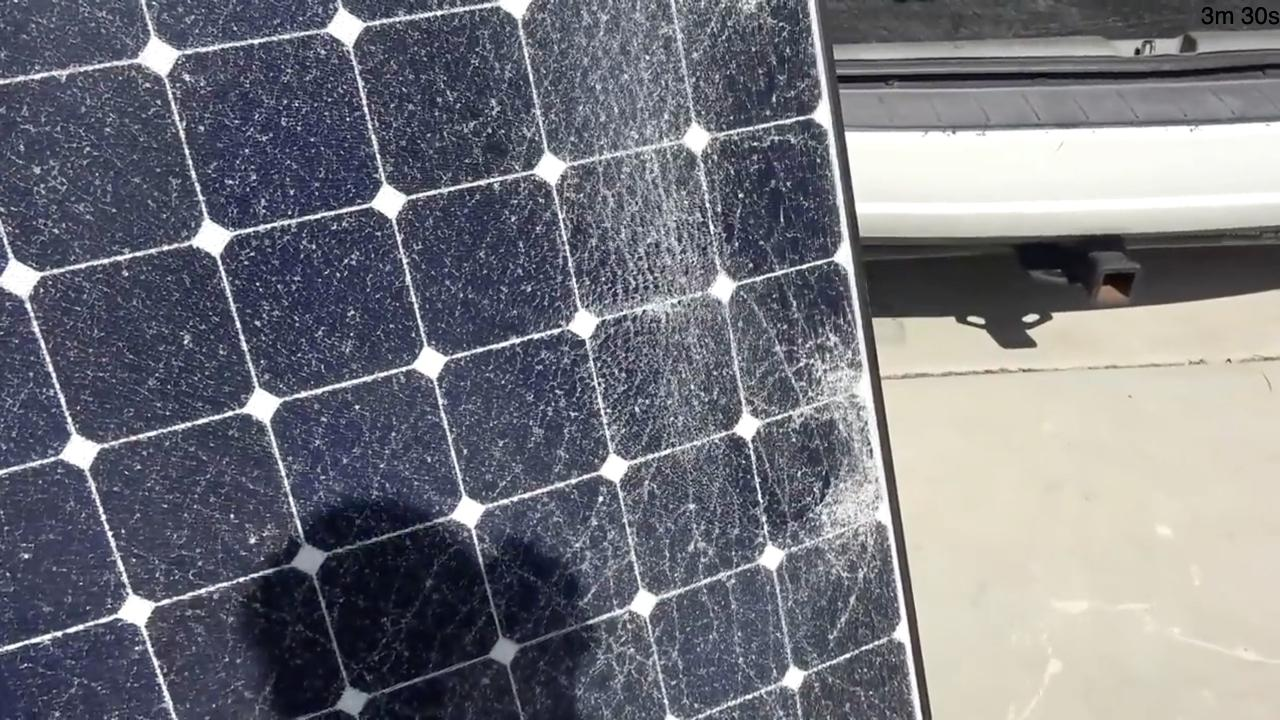Crack: (376, 395, 775, 720), (531, 0, 853, 395), (771, 315, 899, 564)
